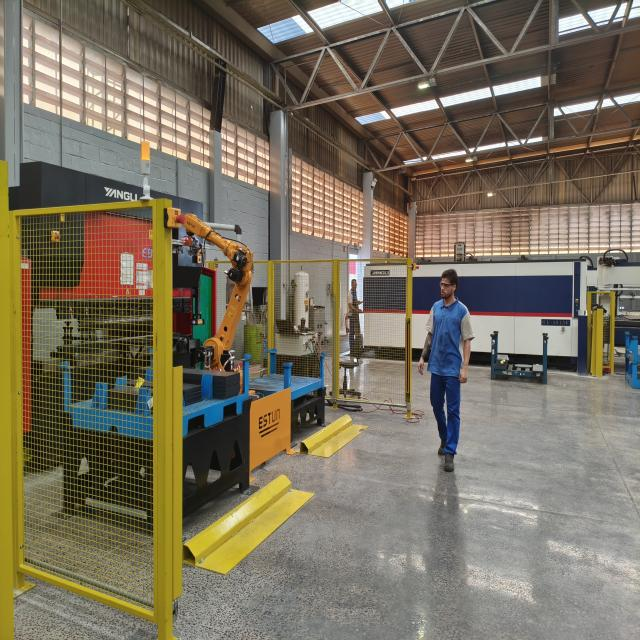oculos-epi: (439, 282, 453, 290)
